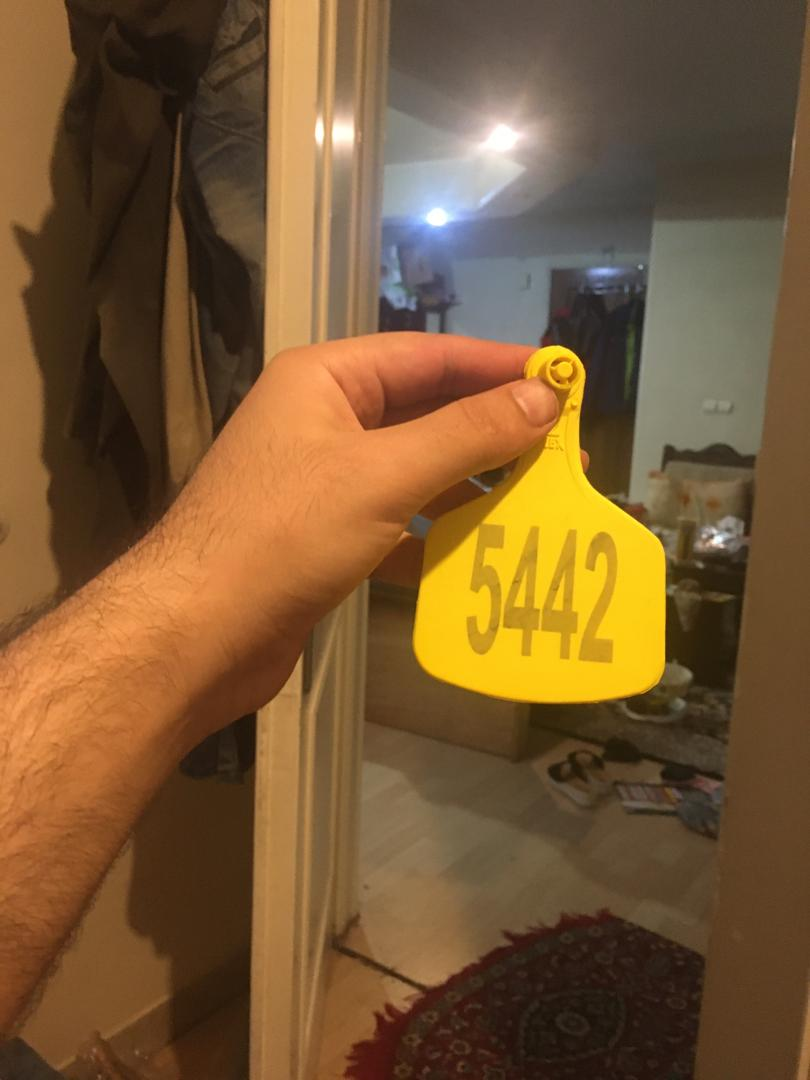digit: (468, 520, 624, 666)
